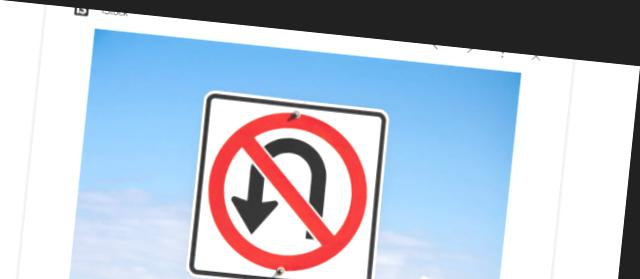not_u_turn_left: (204, 92, 380, 276)
